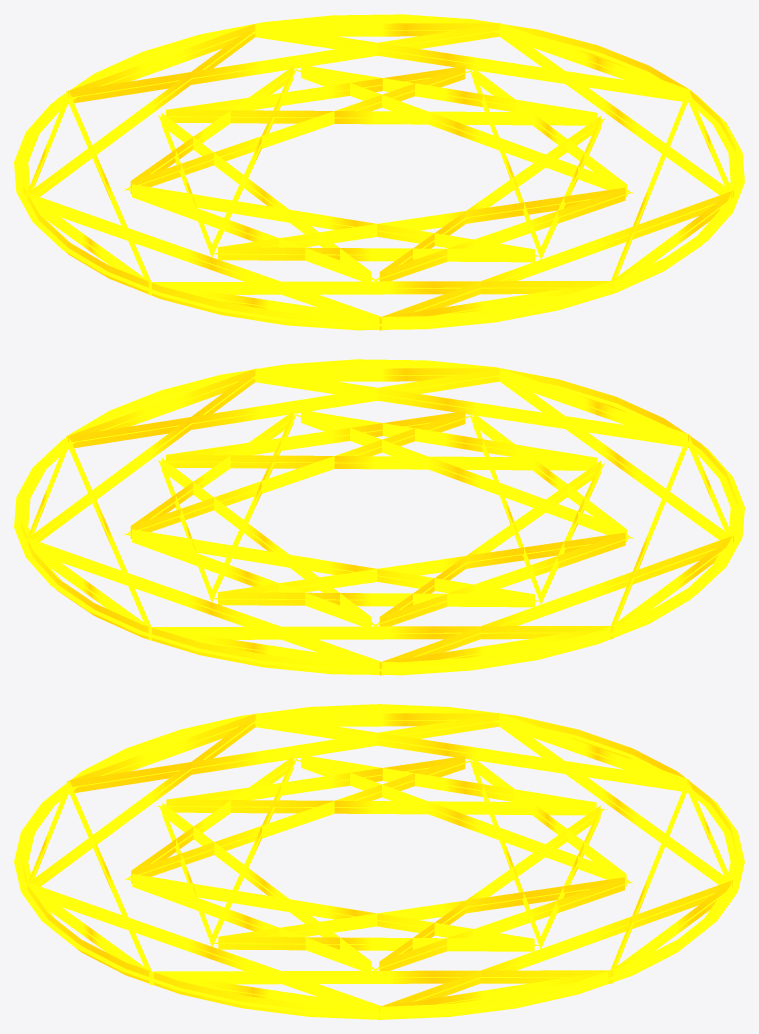
The model's file is Circulomagico.glb.
3 renders of one model, top to bottom at view 1: azimuth 30°, elevation 25°; view 2: azimuth 150°, elevation 25°; view 3: azimuth 270°, elevation 25°, orthographic.
Parts seen in each view (by area): view 1: Plane; view 2: Plane; view 3: Plane.
Boxes of the visible parts, x1,y1,x2,y2 form: Plane: (14, 14, 744, 330); Plane: (14, 359, 744, 675); Plane: (14, 704, 744, 1019).
Size of the model in its own units: 2.04 by 0.04 by 2.04.
